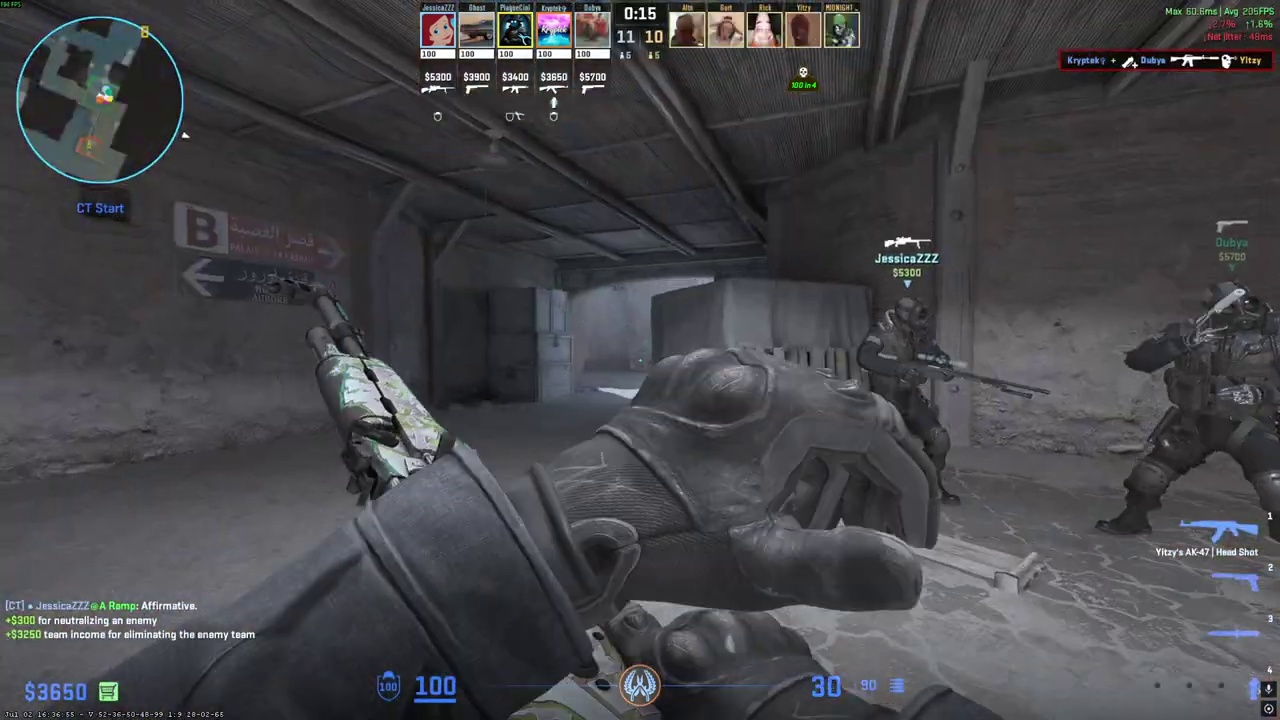CT: (1132, 278, 1280, 546), (858, 295, 961, 505)
